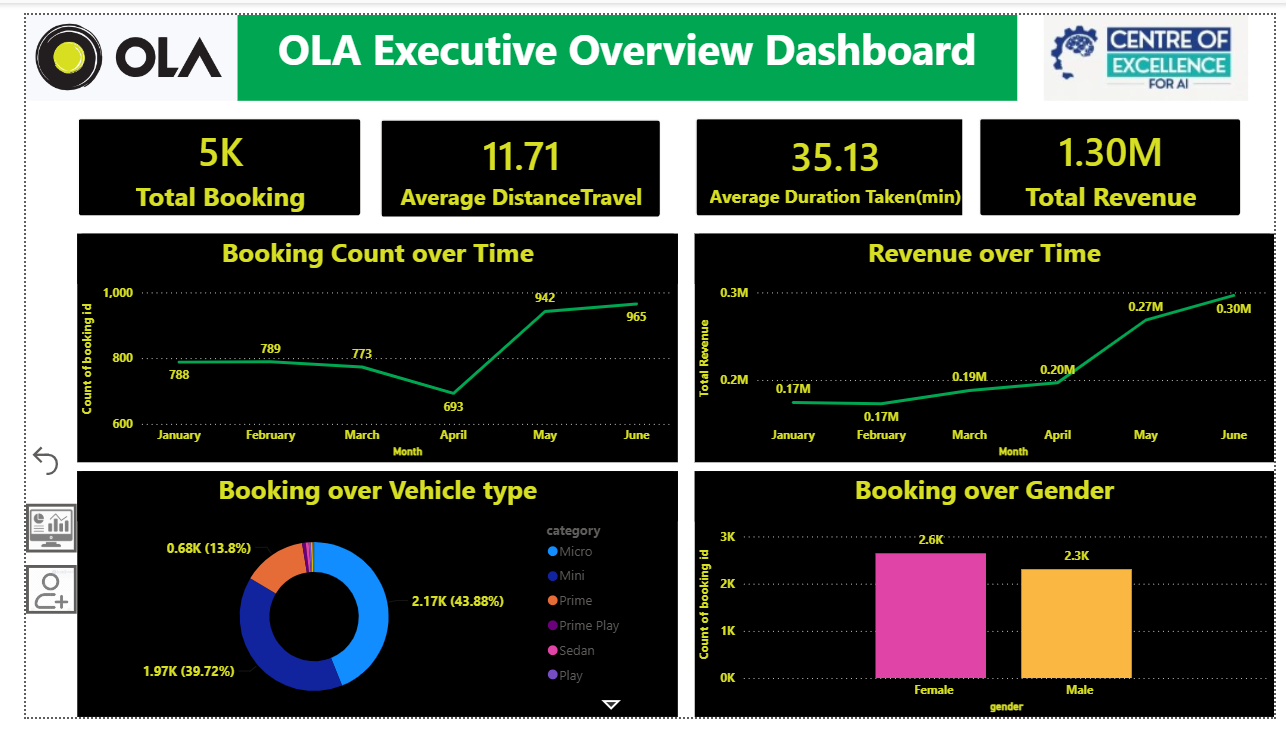

The dashboard page shown, as its layout file describes it:
{"tool":"powerbi","page":{"name":"Executive Overview","canvas":[1280,720],"ordinal":0},"visuals":[{"type":"cardVisual","fields":{"Data":["Data.Total Booking"]},"box":[35.5,88,325.3,135.7],"z":0},{"type":"cardVisual","fields":{"Data":["Data.Average DistanceTravel"]},"box":[346.1,89.3,322.8,135.7],"z":1000},{"type":"cardVisual","fields":{"Data":["Data.Average Duration Taken"]},"box":[668.9,88,320.4,135.7],"z":2000},{"type":"cardVisual","fields":{"Data":["Data.Total Revenue"]},"box":[959.9,88,303.3,135.7],"z":3000},{"type":"textbox","box":[216.4,0,799.7,88],"z":4000},{"type":"lineChart","title":"Booking Count over Time","fields":{"Y":["CountNonNull(Data.booking id)"],"Category":["Data.booking_date_time.Variation.Date Hierarchy.Month"]},"box":[52.6,223.8,616.3,234.8],"z":5000},{"type":"lineChart","title":"Revenue over Time","fields":{"Y":["Data.Total Revenue"],"Category":["Data.booking_date_time.Variation.Date Hierarchy.Month"]},"box":[686,223.8,594.3,234.8],"z":6000},{"type":"donutChart","title":"Booking over Vehicle type","fields":{"Y":["CountNonNull(Data.booking id)"],"Category":["Data.category"]},"box":[52.6,468.3,616.3,251.9],"z":7000},{"type":"clusteredColumnChart","title":"Booking over Gender","fields":{"Category":["Data.gender"],"Y":["CountNonNull(Data.booking id)"]},"box":[686,468.3,594.3,251.9],"z":8000},{"type":"image","box":[1016.2,0,264.1,88],"z":9000},{"type":"actionButton","box":[0,501.4,52,50],"z":10000},{"type":"actionButton","box":[0,563.7,52,50],"z":11000},{"type":"image","box":[0,0,216.4,88],"z":12000},{"type":"actionButton","box":[0,437.8,52,40],"z":13000}]}

Visuals, with their boxes in screenshot pixels (x1, y1, x2, y2), scaled from the page's 1280x720 canvas onto the 1286x733 screenshot:
cardVisual - Data.Total Booking: BBox(36, 90, 362, 228)
cardVisual - Data.Average DistanceTravel: BBox(348, 91, 672, 229)
cardVisual - Data.Average Duration Taken: BBox(672, 90, 994, 228)
cardVisual - Data.Total Revenue: BBox(964, 90, 1269, 228)
textbox: BBox(217, 0, 1021, 90)
"Booking Count over Time" lineChart: BBox(53, 228, 672, 467)
"Revenue over Time" lineChart: BBox(689, 228, 1285, 467)
"Booking over Vehicle type" donutChart: BBox(53, 477, 672, 732)
"Booking over Gender" clusteredColumnChart: BBox(689, 477, 1285, 732)
image: BBox(1021, 0, 1285, 90)
actionButton: BBox(0, 510, 52, 561)
actionButton: BBox(0, 574, 52, 625)
image: BBox(0, 0, 217, 90)
actionButton: BBox(0, 446, 52, 486)
